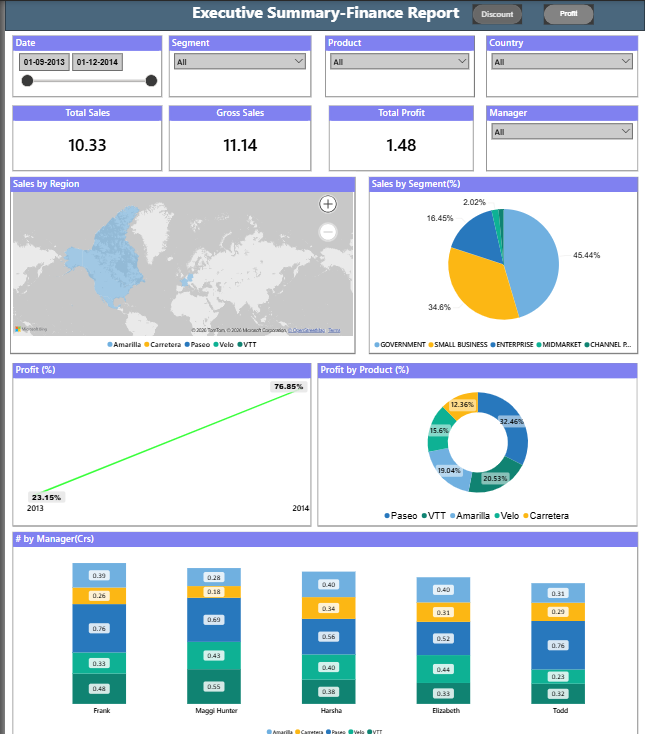

What the dashboard file says about the page in this screenshot:
{"tool":"powerbi","page":{"name":"Finance Report","canvas":[1280,1500],"ordinal":0},"visuals":[{"type":"lineChart","title":"Profit (%)","fields":{"Y":["Sum(financials.Profit)"],"Category":["Calender.Year"]},"box":[14.2,729.9,597.4,326.3],"z":0},{"type":"columnChart","title":"# by Manager(Crs)","fields":{"Category":["financials.Sales Manager"],"Y":["Measure table.Total_Sales"],"Series":["financials.Product"]},"box":[14.5,1068.3,1250.9,417],"z":1000},{"type":"textbox","box":[0,0,1280.4,65.5],"z":2000},{"type":"slicer","title":"Date","fields":{"Values":["Calender.Date"]},"box":[14.5,76,299,122.8],"z":3000},{"type":"slicer","title":"Segment","fields":{"Values":["financials.Segment"]},"box":[328.1,76,284.4,122.8],"z":4000},{"type":"card","title":"Total Sales","fields":{"Values":["financials.Sales_Crs"]},"box":[14.5,214.9,299,130.9],"z":5000},{"type":"card","title":"Total Profit","fields":{"Values":["financials.TTotal_Profit"]},"box":[646.5,214.9,289.3,130.9],"z":6000},{"type":"donutChart","title":"Profit by Product (%)","fields":{"Category":["financials.Product"],"Y":["financials.TTotal_Profit"]},"box":[625.5,730.5,640,326.5],"z":7000},{"type":"card","title":"Gross Sales","fields":{"Values":["financials.Gross_Sales"]},"box":[328.1,214.9,284.4,130.9],"z":8000},{"type":"slicer","title":"Product","fields":{"Values":["financials.Product"]},"box":[640,76,299,122.8],"z":9000},{"type":"slicer","title":"Country","fields":{"Values":["financials.Country"]},"box":[961.6,76,303.8,122.8],"z":10000},{"type":"filledMap","title":"Sales by Region","fields":{"Category":["financials.Country"],"Series":["financials.Product"]},"box":[9.7,357.2,690.1,353.9],"z":11000},{"type":"slicer","title":"Manager","fields":{"Values":["financials.Sales Manager"]},"box":[961.6,214.9,303.8,130.9],"z":12000},{"type":"pieChart","title":"Sales by Segment(%)","fields":{"Category":["financials.Segment"],"Y":["financials.Sales_Crs"]},"box":[727.3,357.2,538.2,353.9],"z":13000},{"type":"actionButton","box":[935.1,13.3,99.5,39.8],"z":14000},{"type":"actionButton","box":[1078,12.9,100.2,40.4],"z":15000}]}

Visuals, with their boxes in screenshot pixels (x1, y1, x2, y2), scaled from the page's 1280x1500 canvas onto the 645x734 screenshot:
"Profit (%)" lineChart: pyautogui.locateOnScreen(7, 357, 308, 517)
"# by Manager(Crs)" columnChart: pyautogui.locateOnScreen(7, 523, 638, 727)
textbox: pyautogui.locateOnScreen(0, 0, 644, 32)
"Date" slicer: pyautogui.locateOnScreen(7, 37, 158, 97)
"Segment" slicer: pyautogui.locateOnScreen(165, 37, 309, 97)
"Total Sales" card: pyautogui.locateOnScreen(7, 105, 158, 169)
"Total Profit" card: pyautogui.locateOnScreen(326, 105, 472, 169)
"Profit by Product (%)" donutChart: pyautogui.locateOnScreen(315, 357, 638, 517)
"Gross Sales" card: pyautogui.locateOnScreen(165, 105, 309, 169)
"Product" slicer: pyautogui.locateOnScreen(322, 37, 473, 97)
"Country" slicer: pyautogui.locateOnScreen(485, 37, 638, 97)
"Sales by Region" filledMap: pyautogui.locateOnScreen(5, 175, 353, 348)
"Manager" slicer: pyautogui.locateOnScreen(485, 105, 638, 169)
"Sales by Segment(%)" pieChart: pyautogui.locateOnScreen(366, 175, 638, 348)
actionButton: pyautogui.locateOnScreen(471, 7, 521, 26)
actionButton: pyautogui.locateOnScreen(543, 6, 594, 26)
